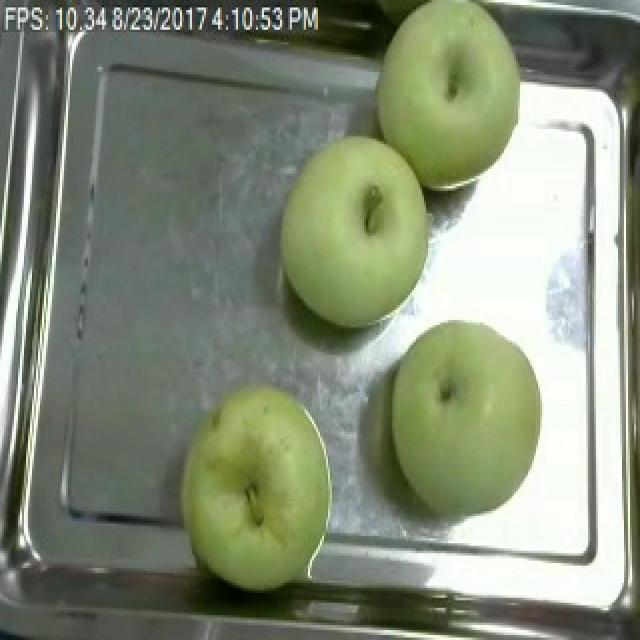50-_ripeness: (172, 371, 348, 606), (384, 316, 543, 528), (378, 0, 555, 173), (286, 134, 424, 332)
